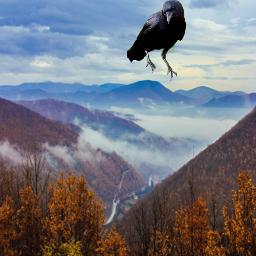Crow: (127, 0, 186, 81)
